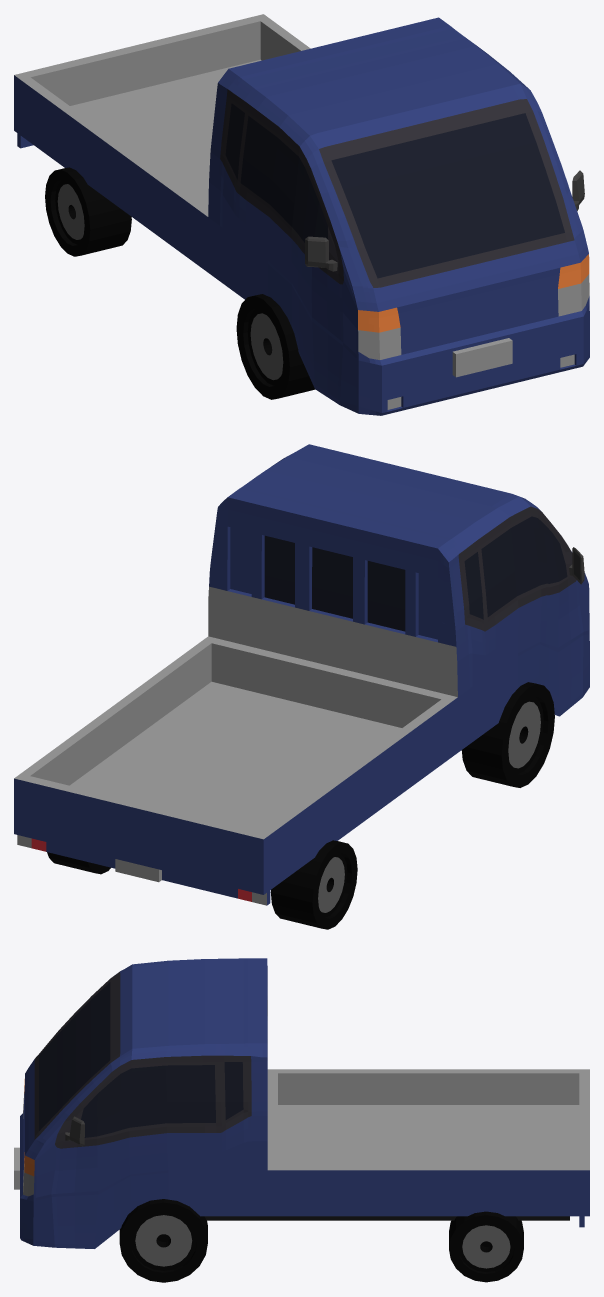
Rendered from truck.fbx.
The picture shows the model from 3 angles, top to bottom: view 1: azimuth 30°, elevation 25°; view 2: azimuth 150°, elevation 25°; view 3: azimuth 270°, elevation 25°; orthographic projection. The views are drawn at different scales.
Visible parts, largest first — view 1: 큐브.002, 실린더.004, 큐브.001; view 2: 큐브.002, 실린더.004; view 3: 큐브.002, 실린더.004.
Part boxes in pixels (x1,y1,x2,y2): 큐브.002: (14, 14, 589, 415); 실린더.004: (45, 167, 314, 399); 큐브.001: (305, 170, 584, 271); 큐브.002: (14, 444, 589, 905); 실린더.004: (47, 682, 554, 929); 큐브.002: (14, 958, 589, 1248); 실린더.004: (119, 1199, 523, 1282).
Size of the model in its own units: 3.34 by 3.17 by 7.25.
